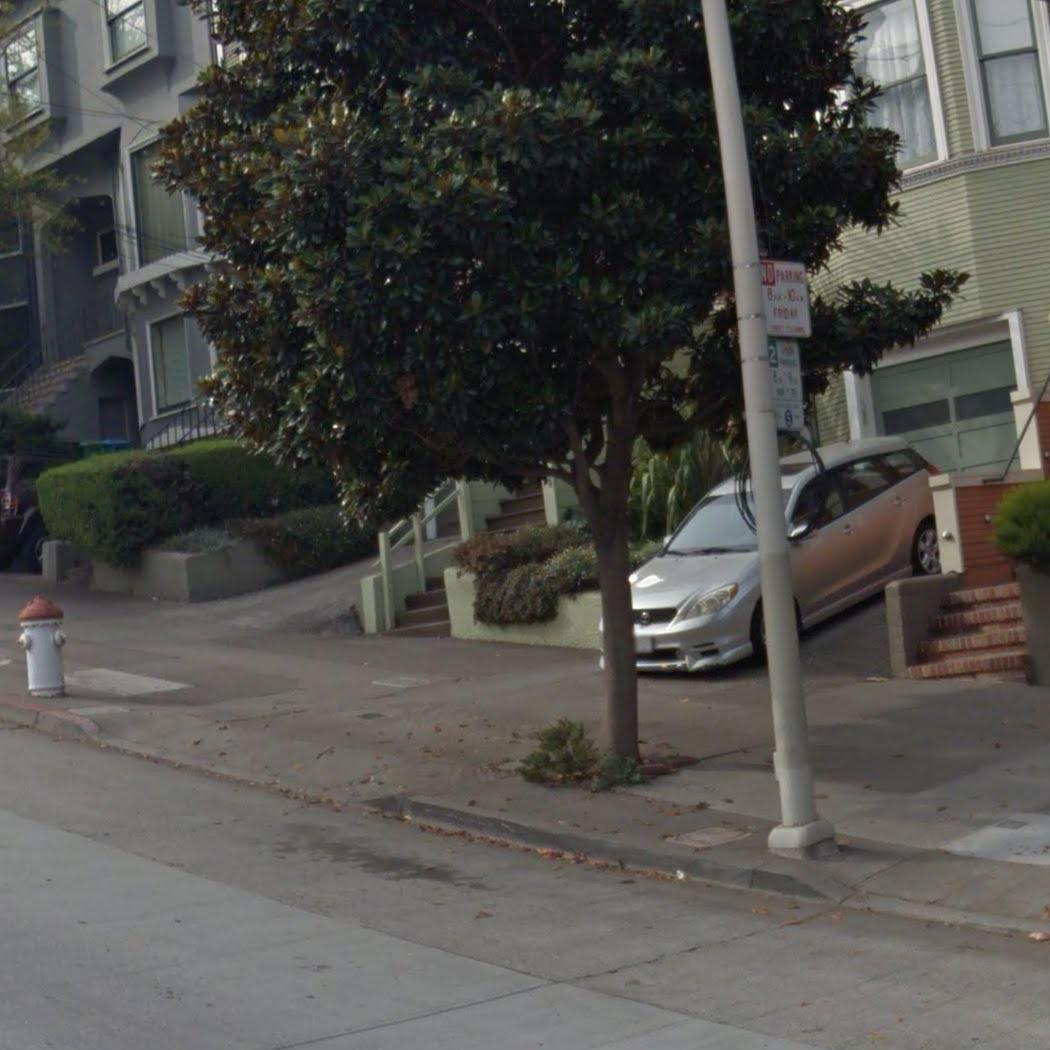2 Hour Parking: (762, 334, 809, 433)
No Parking: (751, 256, 814, 339)
